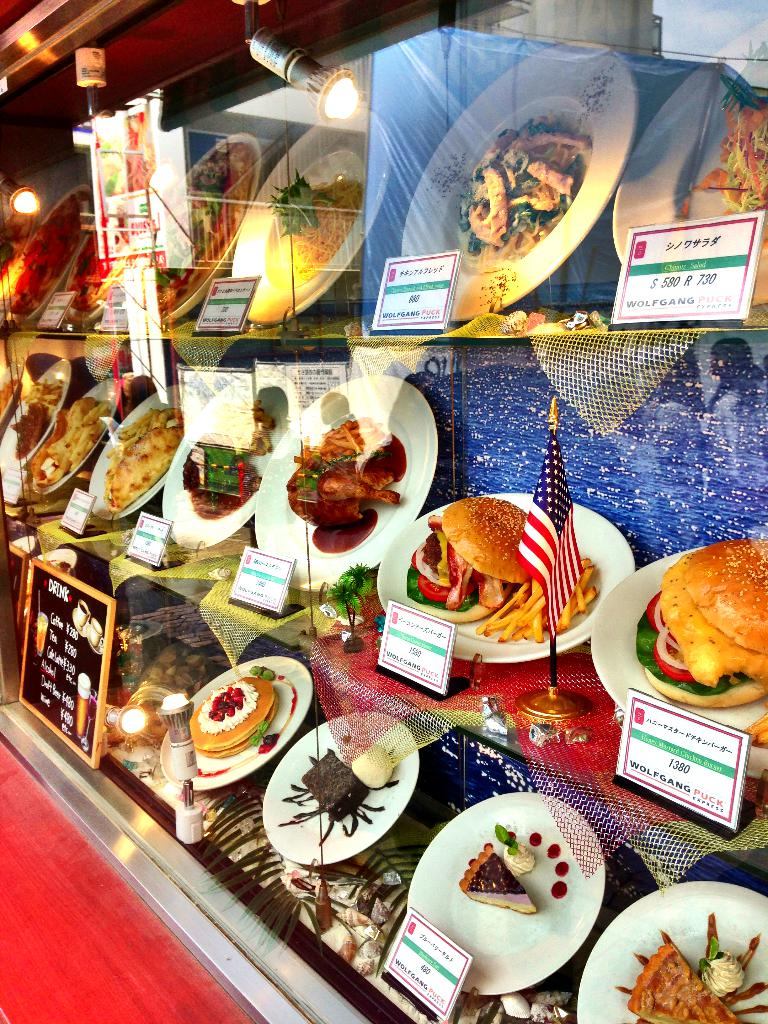Hamburger: (631, 539, 767, 711), (406, 494, 528, 620)
